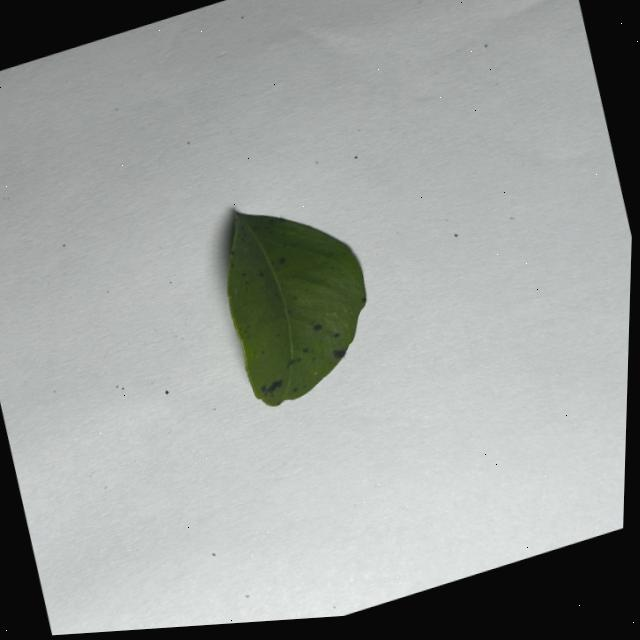sooty_mold: (226, 211, 365, 405)
